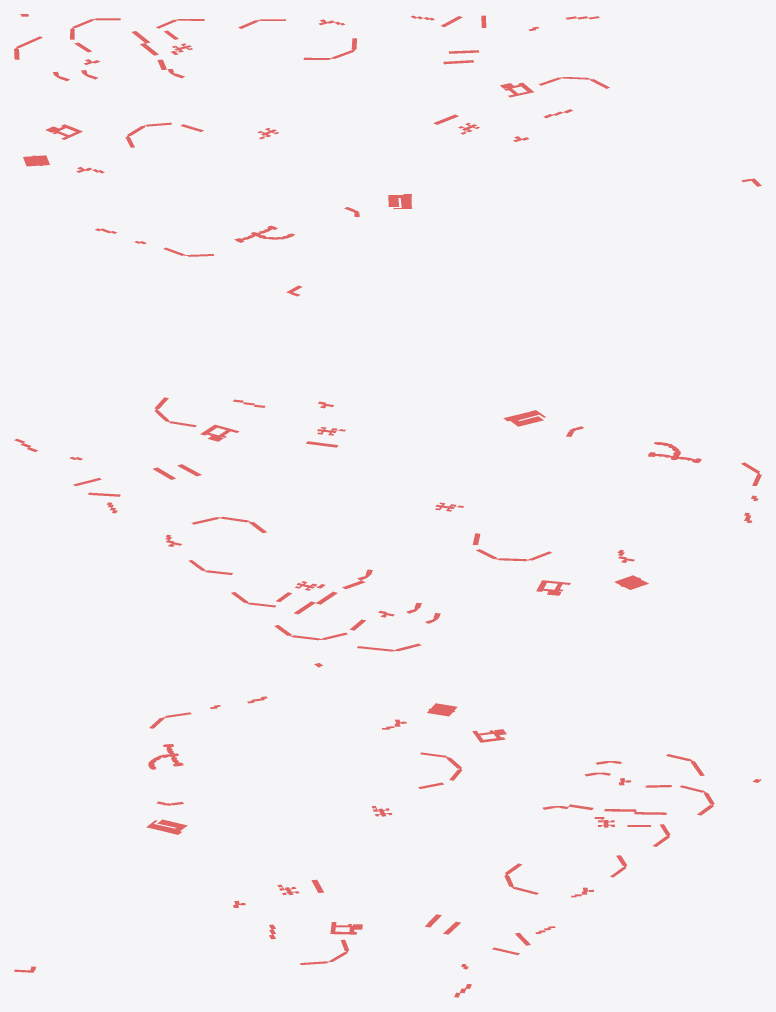
Rendered from threejs10.gltf.
The picture shows the model from 3 angles, top to bottom: view 1: azimuth 30°, elevation 25°; view 2: azimuth 150°, elevation 25°; view 3: azimuth 270°, elevation 25°; orthographic projection. The views are drawn at different scales.
Parts seen in each view (by area): view 1: damaged_building; view 2: damaged_building; view 3: damaged_building.
Part boxes in pixels (x1,y1,x2,y2): damaged_building: (14, 14, 761, 256); damaged_building: (14, 285, 761, 667); damaged_building: (14, 696, 761, 997).
Bounding box in the file's own units: 2790 × 6.5e-13 × 2927.
